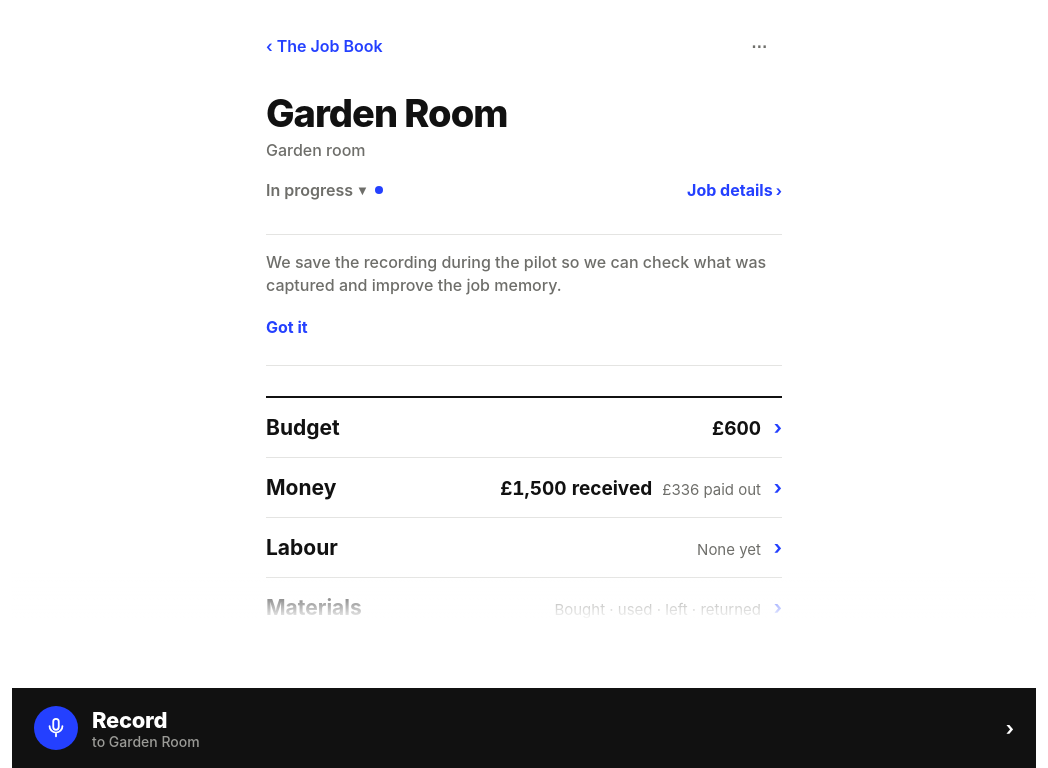
Test case: Money — section › filters to Money in and Money out
Step 1. Click the button with aria-label "Open Money" → (524, 488), box [266,458,782,518]
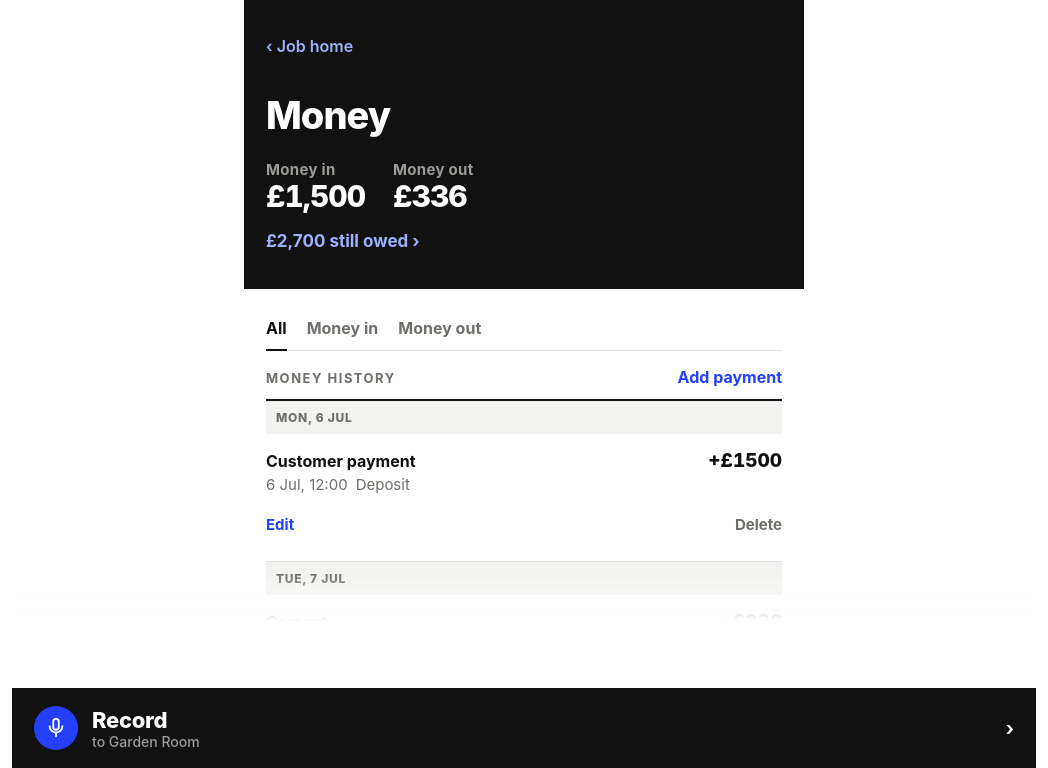
Result: the panel "Money" is shown at [266,134,782,723]
Step 2. Click the tab "Money out" → (440, 329), box [398,307,481,351]
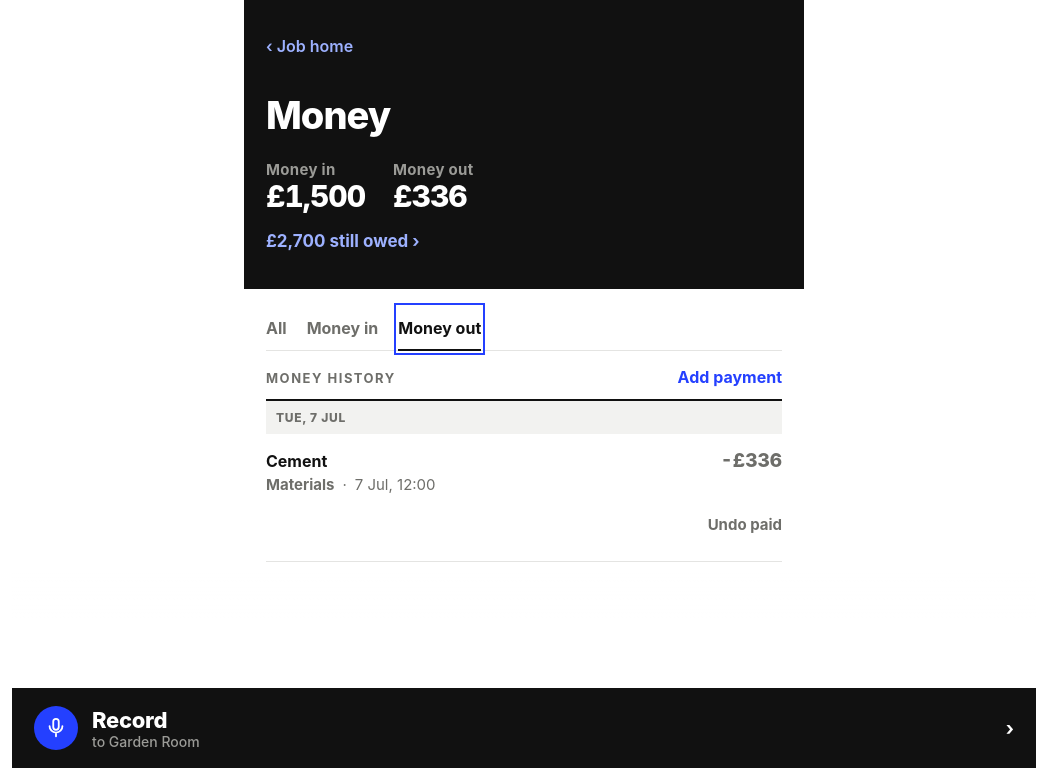
Result: the text "-£336" is shown at [721,449,782,472]
Result: the text "+£1500" is gone
Step 3. Click the tab "Money in" → (342, 329), box [307,307,378,351]
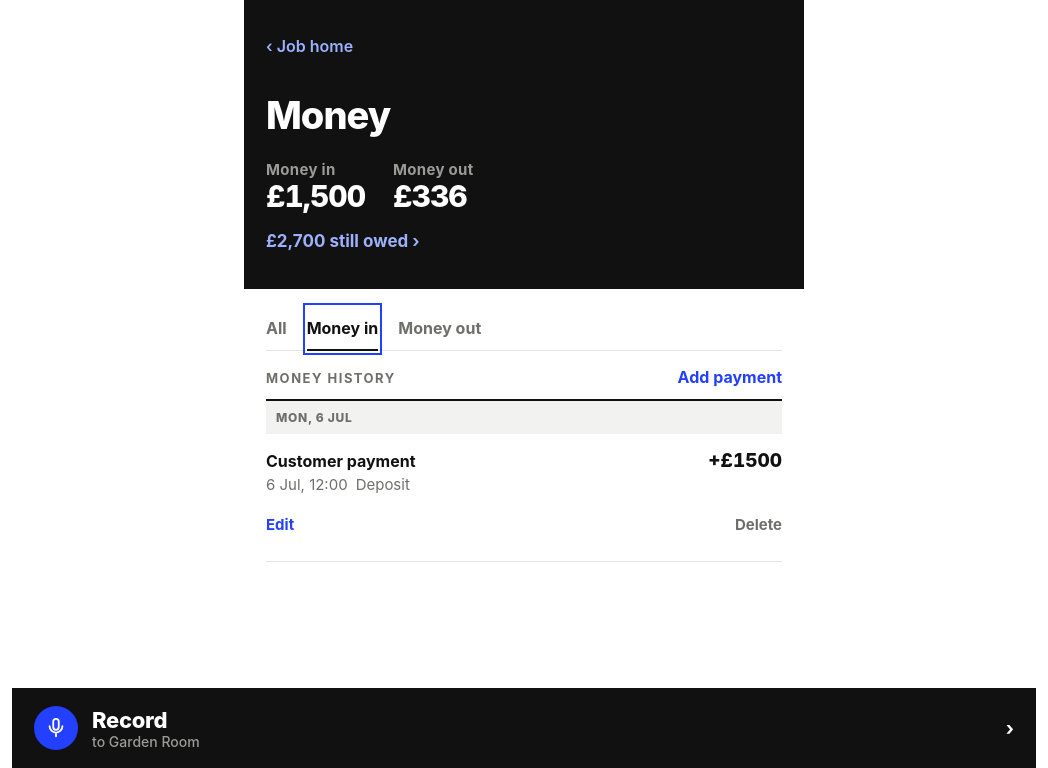
Result: the text "+£1500" is shown at [708,449,782,472]
Result: the text "-£336" is gone
